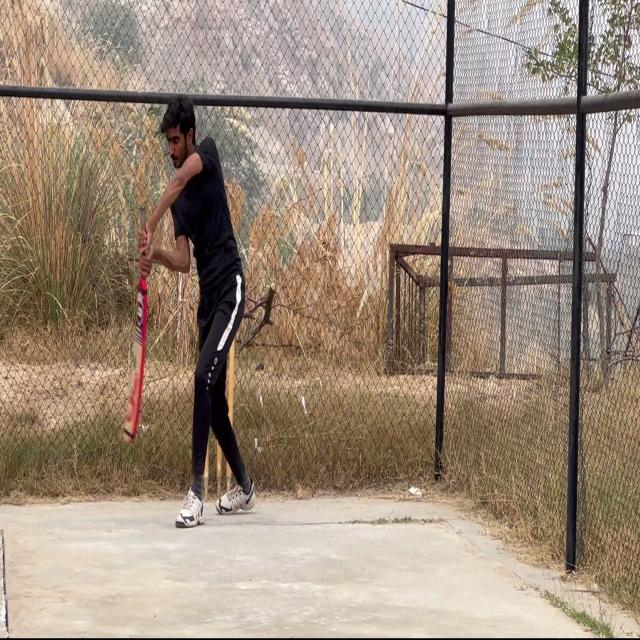Batsman: (152, 93, 260, 540)
